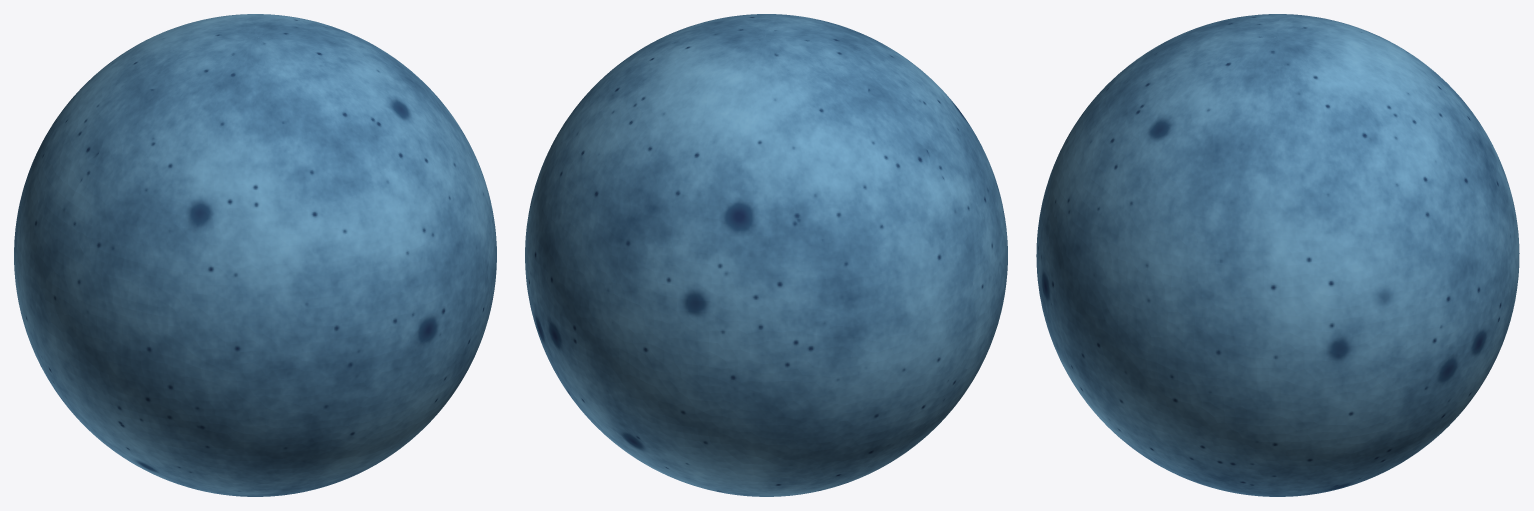
The model's file is metis.obj.
3 views of the same model, side by side, from view 1: azimuth 30°, elevation 25°; view 2: azimuth 150°, elevation 25°; view 3: azimuth 270°, elevation 25° (orthographic).
Bounding box in the file's own units: 2.4 × 2.4 × 2.4.
1 material, 1 textured.
